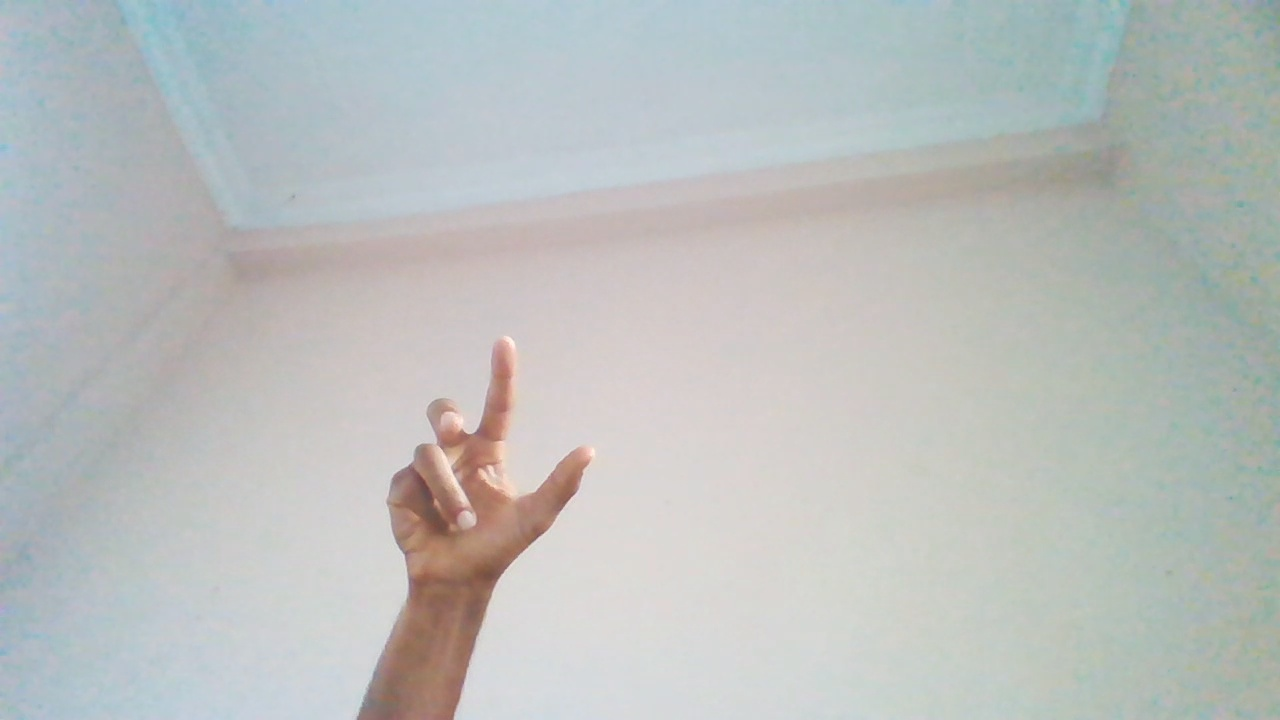hhe: (386, 331, 596, 686)
